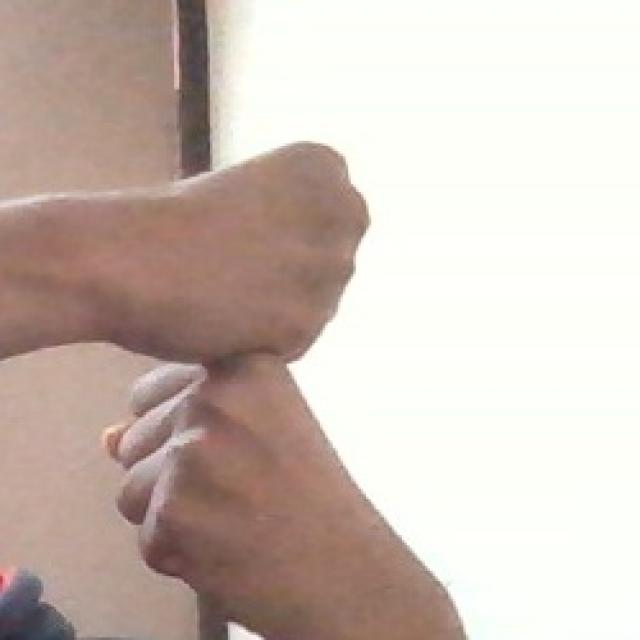Alphabet-g: (80, 121, 390, 607)
